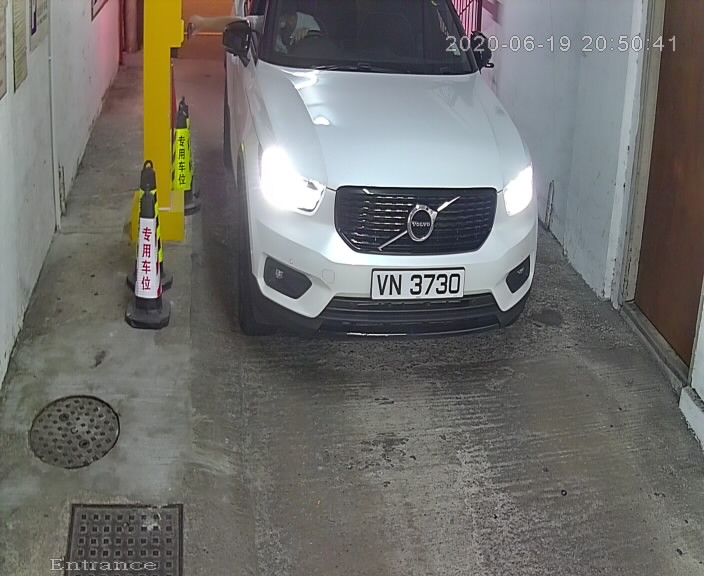privatecar: (200, 3, 565, 350)
